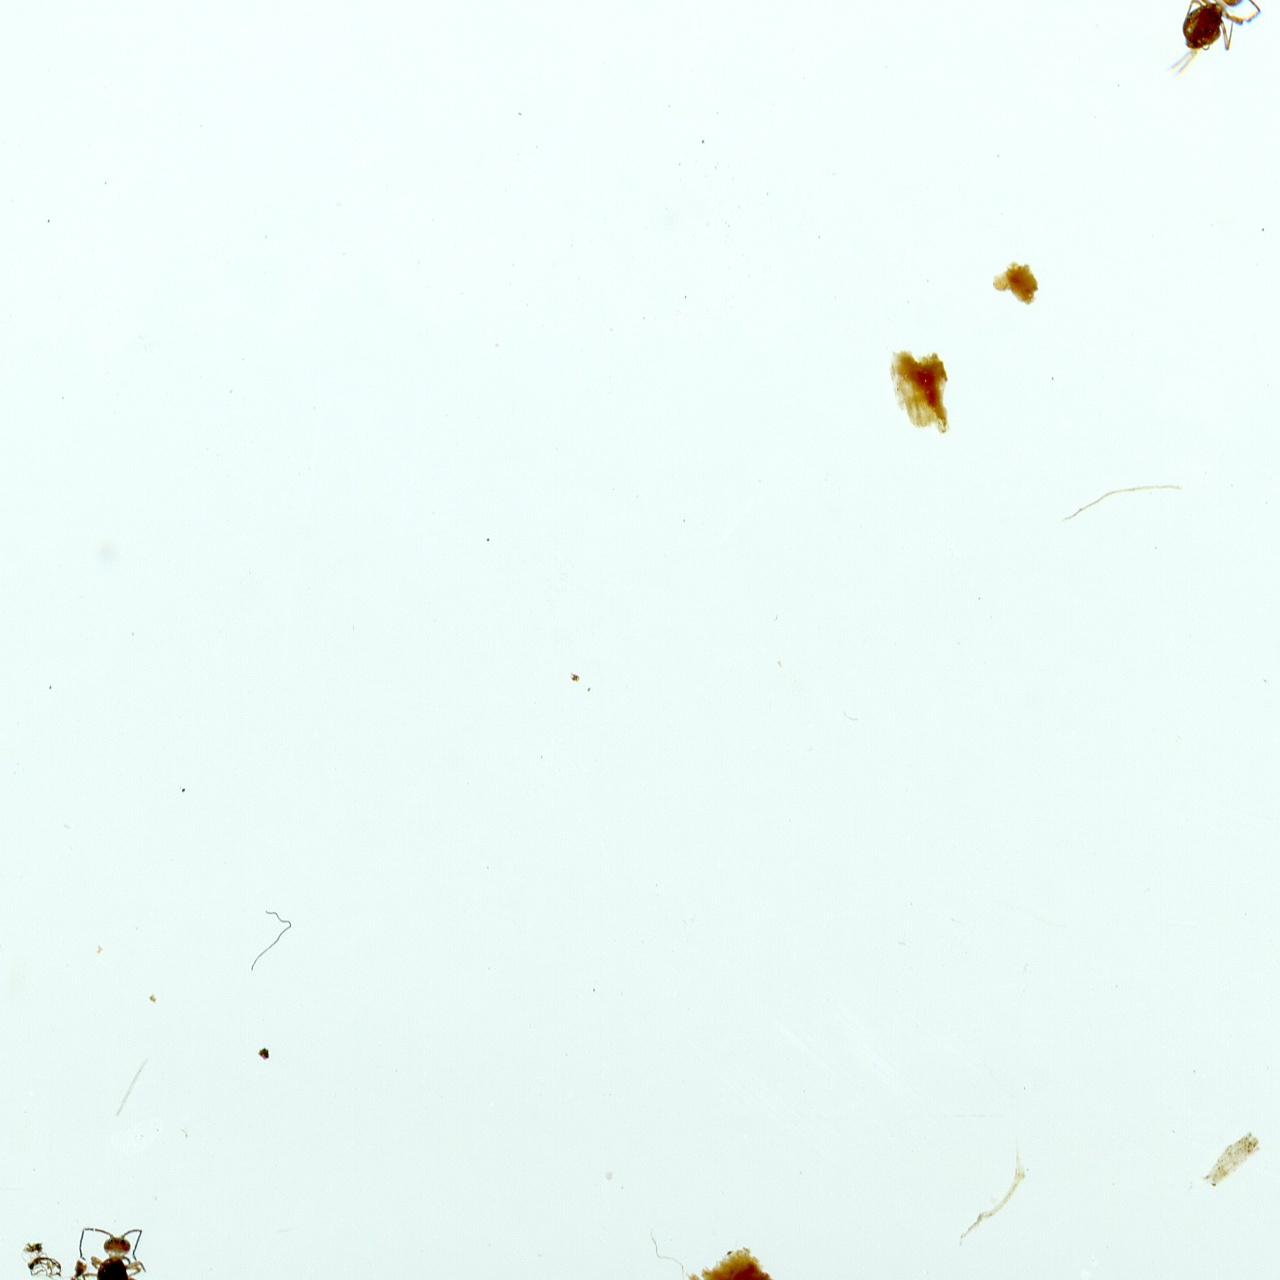arthropod: (1130, 0, 1278, 110), (62, 1210, 158, 1280)
